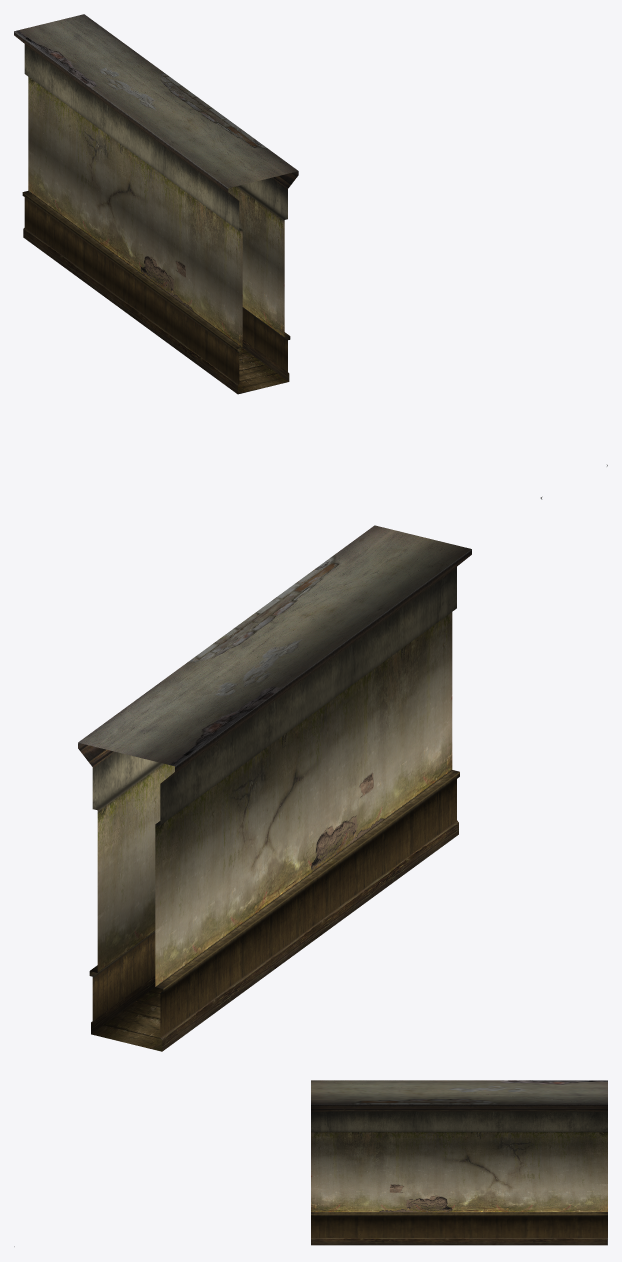
Rendered from passage2.FBX.
3 views of the same model, one above another, from view 1: azimuth 30°, elevation 25°; view 2: azimuth 150°, elevation 25°; view 3: azimuth 270°, elevation 25° (orthographic). The views are drawn at different scales.
Visible parts, largest first — view 1: Box001; view 2: Box001; view 3: Box001.
Boxes of the visible parts, bbox=[...] form: Box001: bbox=[14, 14, 298, 394]; Box001: bbox=[78, 525, 471, 1051]; Box001: bbox=[311, 1080, 607, 1245].
Size of the model in its own units: 64.6 by 77.98 by 291.
